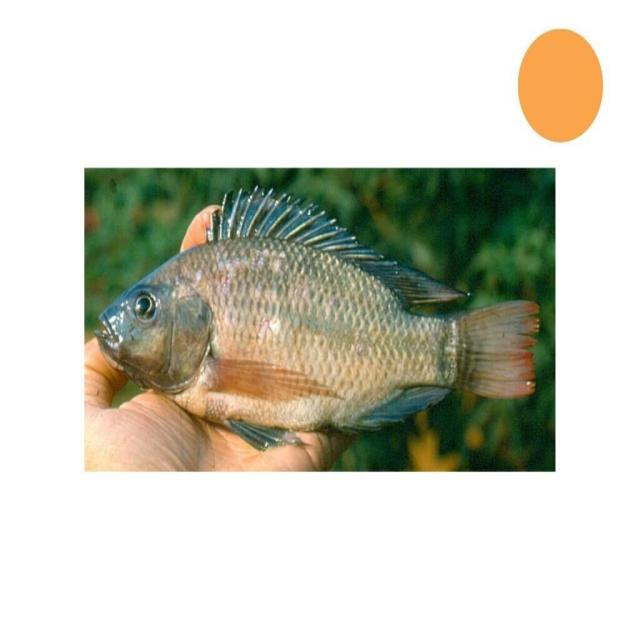ikan: (91, 175, 548, 460)
